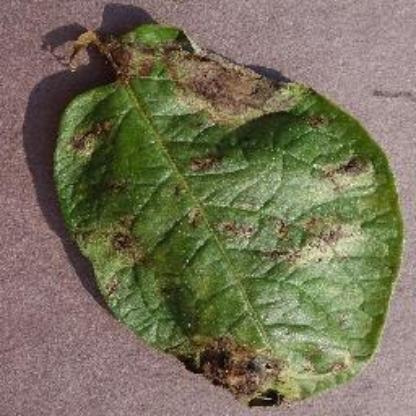Late-Blight: (36, 23, 408, 399)
